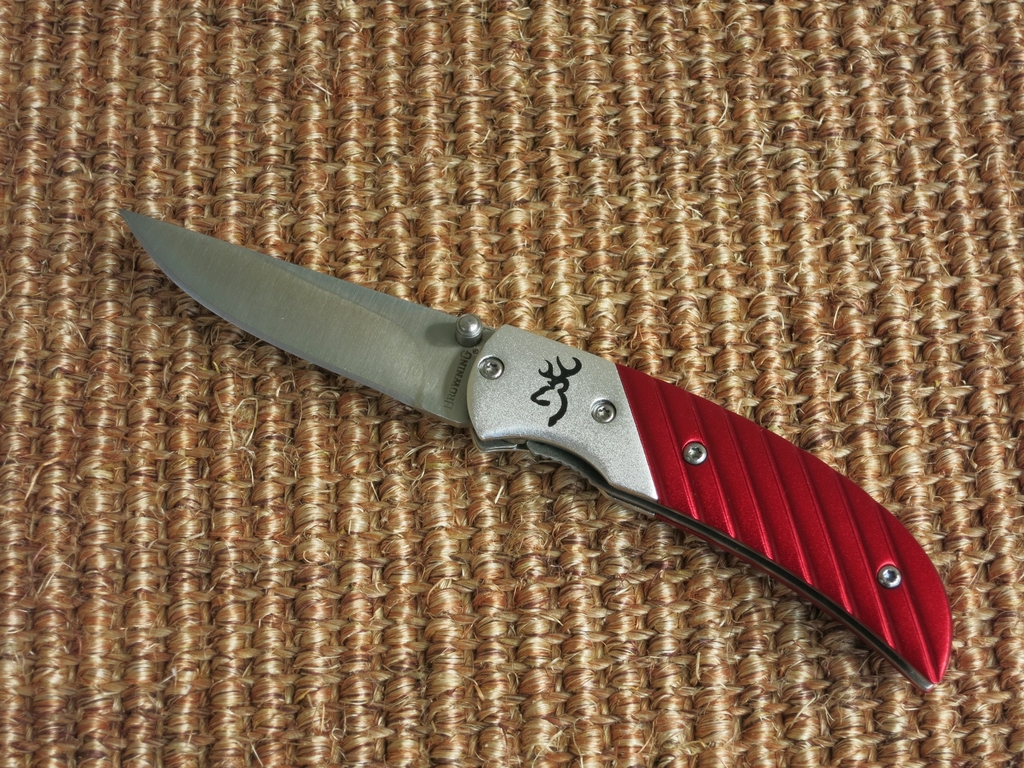knife: (115, 203, 953, 690)
